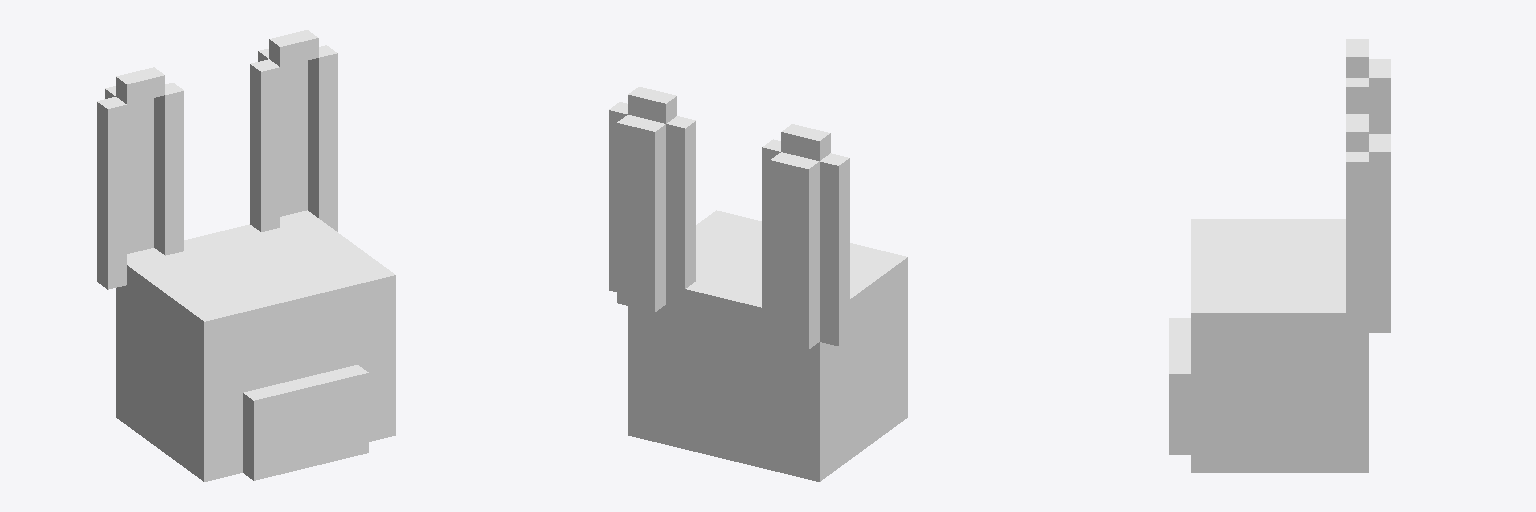
File: RabbitV2-2-Head.obj
3 views of the same model, side by side, from view 1: azimuth 30°, elevation 25°; view 2: azimuth 150°, elevation 25°; view 3: azimuth 270°, elevation 25° (orthographic).
Visible parts, largest first — view 1: Head; view 2: Head; view 3: Head.
Boxes of the visible parts, x1=… form: Head: x1=97, y1=30, x2=395, y2=481; Head: x1=609, y1=87, x2=907, y2=481; Head: x1=1169, y1=39, x2=1390, y2=472.
Bounding box in the file's own units: 1.2 × 1.7 × 1.